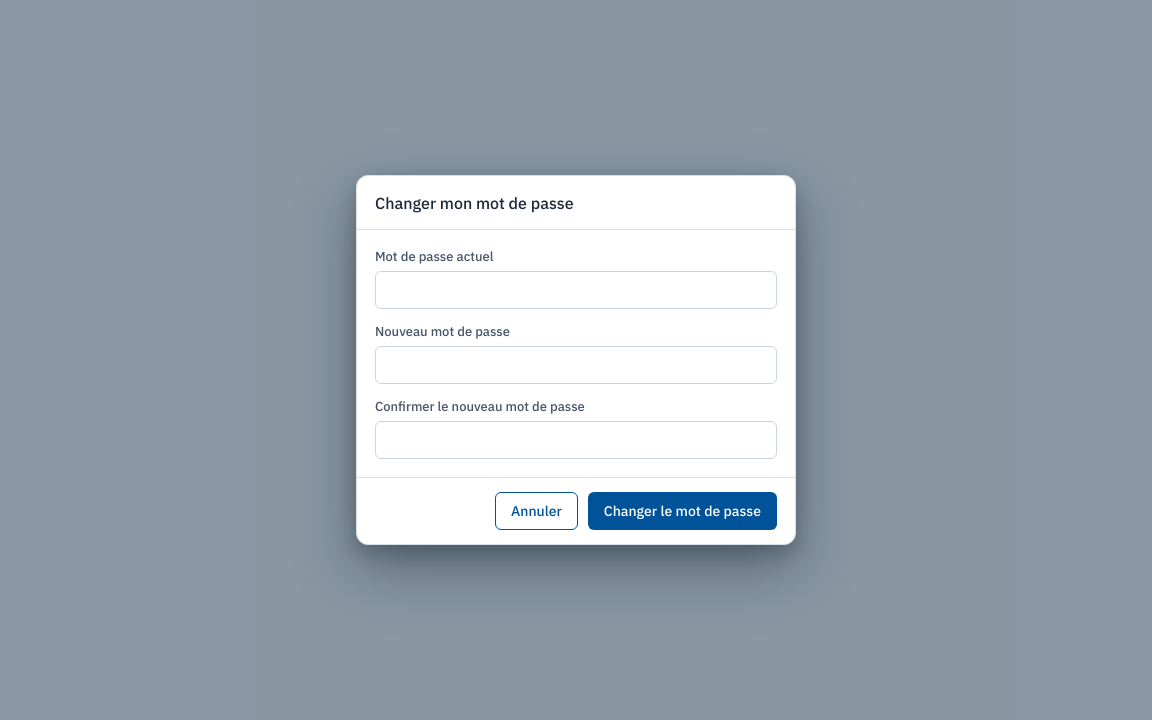
Test: ChangePasswordModal › rejette un nouveau mot de passe trop court sans appeler Supabase
In the password field labelled "Mot de passe actuel": {"x": 576, "y": 290} [375,271,777,309], type "ancien-mdp"
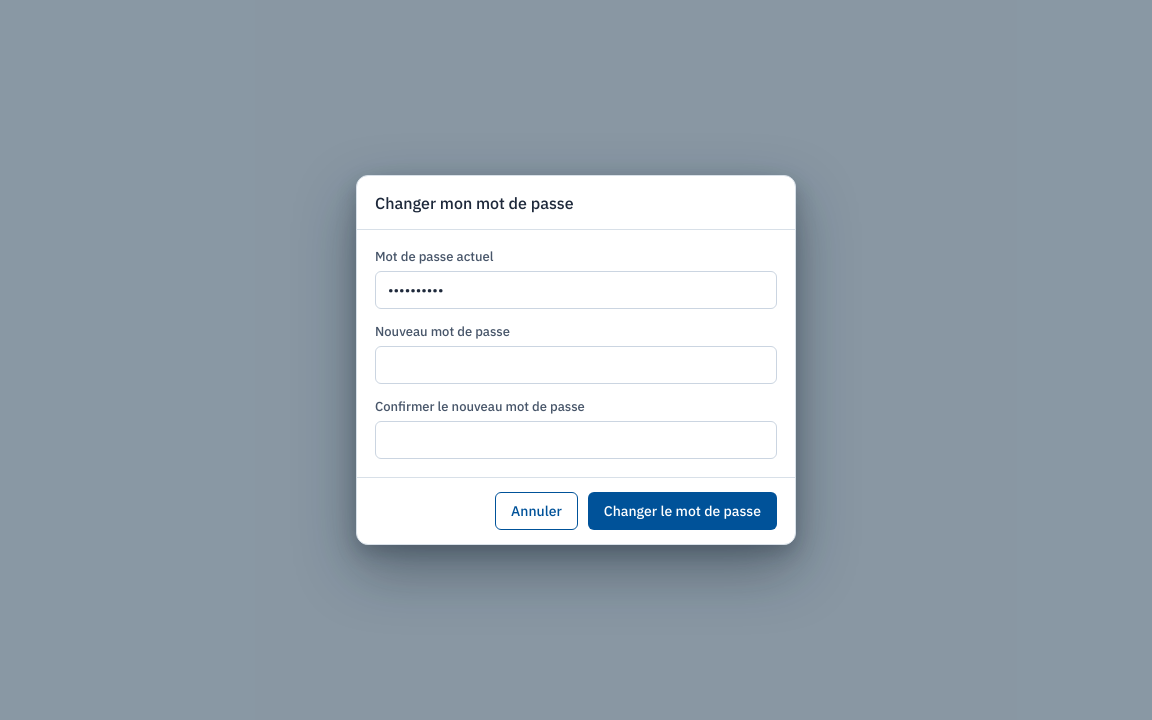
In the password field labelled "Nouveau mot de passe": {"x": 576, "y": 365} [375,346,777,384], type "court"
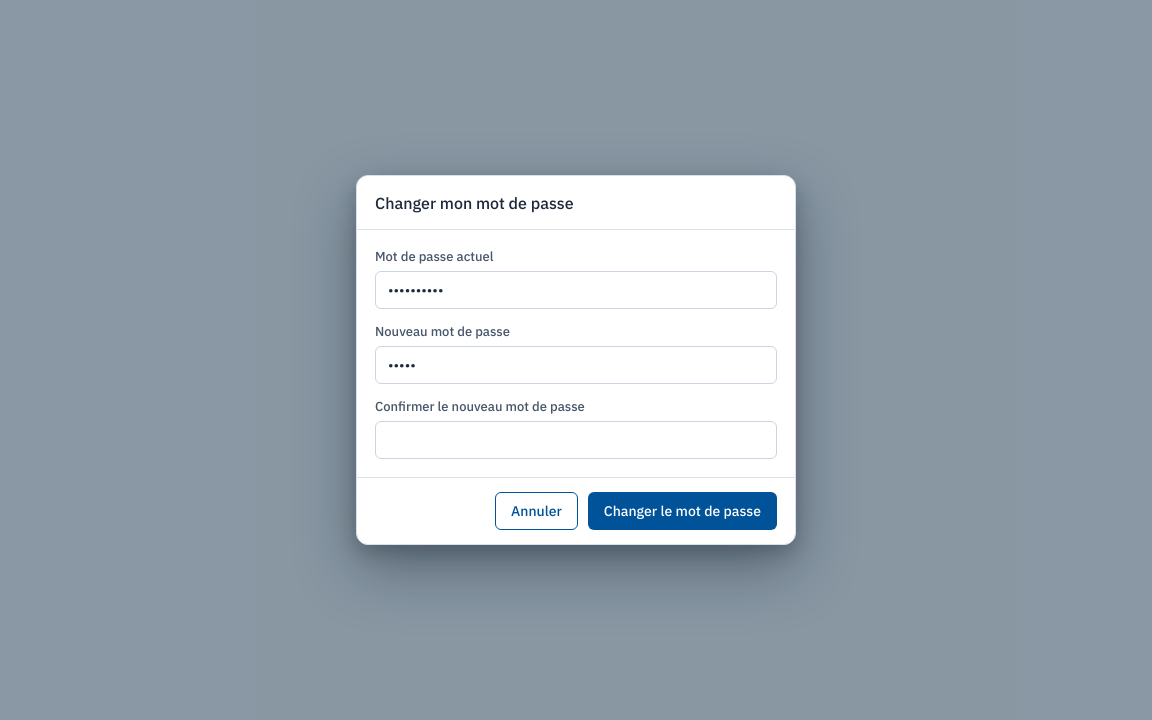
In the password field labelled "Confirmer le nouveau mot de passe": {"x": 576, "y": 440} [375,421,777,459], type "court"
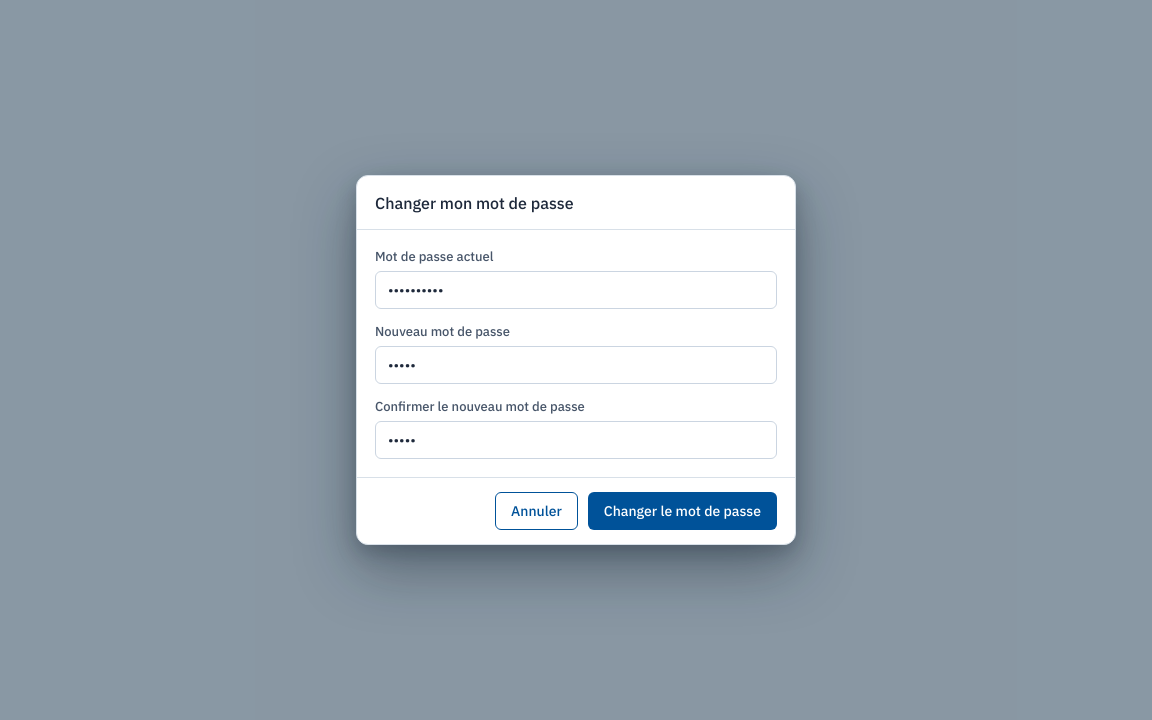
Click the button "Changer le mot de passe": {"x": 682, "y": 511} [588,492,777,530]
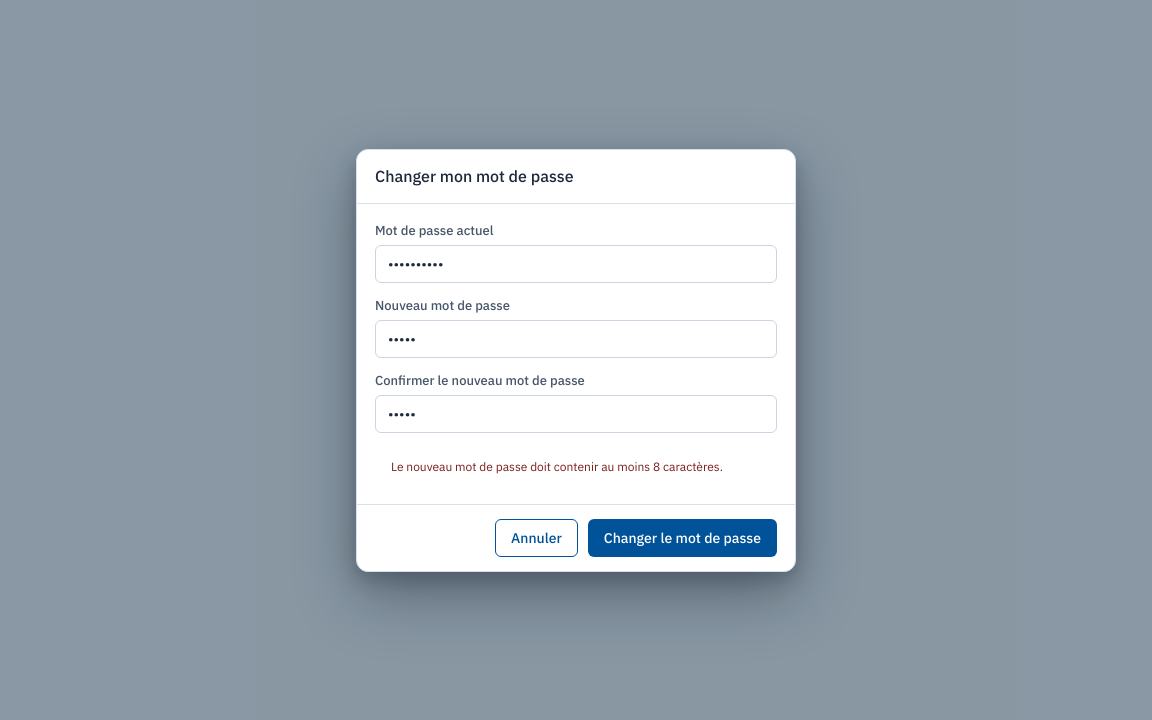
expect the text "Le nouveau mot de passe doit contenir au moins 8 caractères." is shown: met, box [375,458,777,474]
